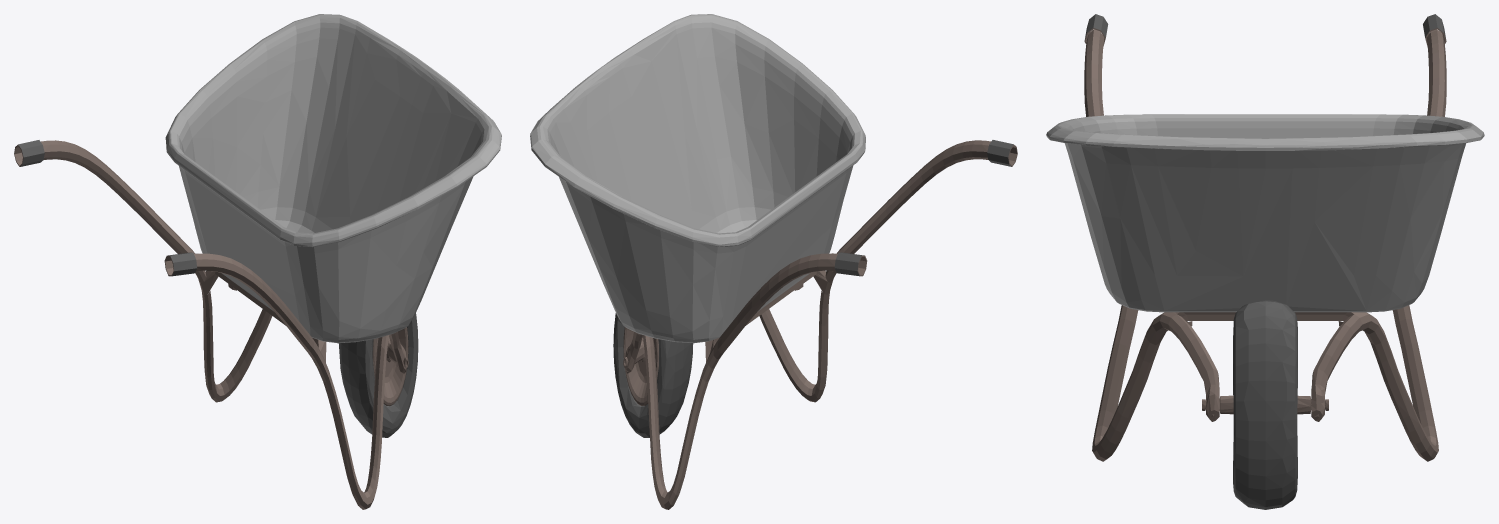
The model's file is sh-bs0-wheelbarrow.glb.
The picture shows the model from 3 angles, left to right: view 1: azimuth 30°, elevation 25°; view 2: azimuth 150°, elevation 25°; view 3: azimuth 270°, elevation 25°; orthographic projection. The views are drawn at different scales.
Parts seen in each view (by area): view 1: Barrow_Plane, WheelHub_Circle.000, Handles_Mesh; view 2: Barrow_Plane, WheelHub_Circle.000, Handles_Mesh; view 3: Barrow_Plane, WheelHub_Circle.000, Handles_Mesh.
Boxes of the visible parts, box(x1,y1,x2,y2) form: Barrow_Plane: box(165, 14, 501, 343); WheelHub_Circle.000: box(14, 140, 408, 509); Handles_Mesh: box(18, 140, 418, 437); Barrow_Plane: box(530, 14, 865, 343); WheelHub_Circle.000: box(623, 140, 1017, 509); Handles_Mesh: box(613, 140, 1013, 437); Barrow_Plane: box(1046, 114, 1484, 312); WheelHub_Circle.000: box(1084, 28, 1446, 461); Handles_Mesh: box(1084, 14, 1446, 509).
Size of the model in its own units: 0.9995 by 1 by 0.9999.
